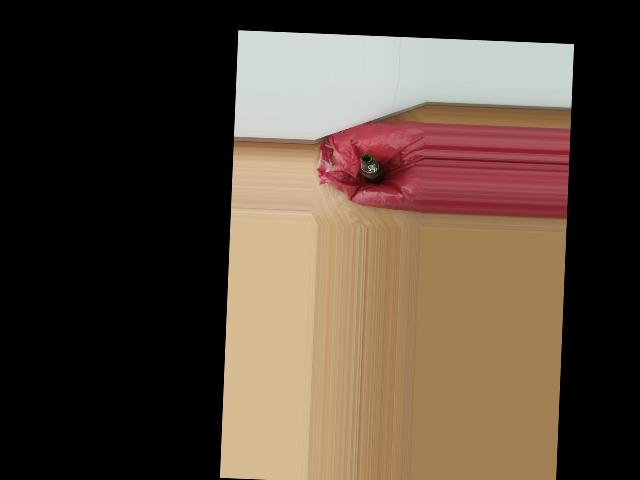beer: (359, 154, 384, 184)
